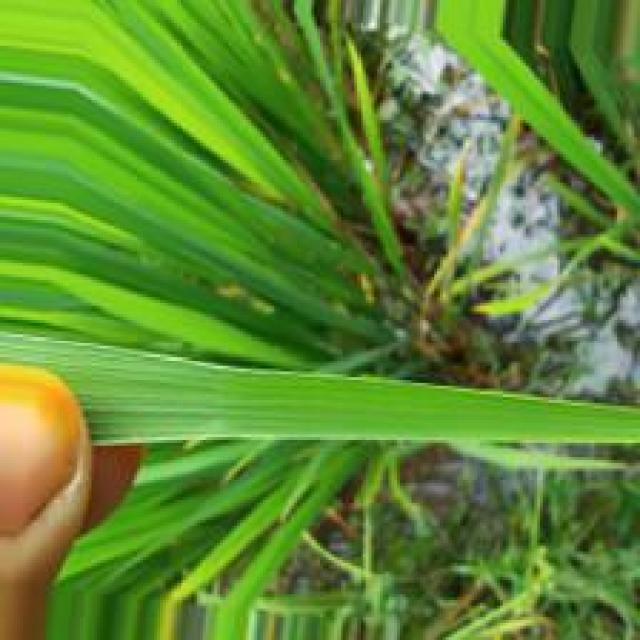HealthyLeaf: (0, 330, 640, 444)
